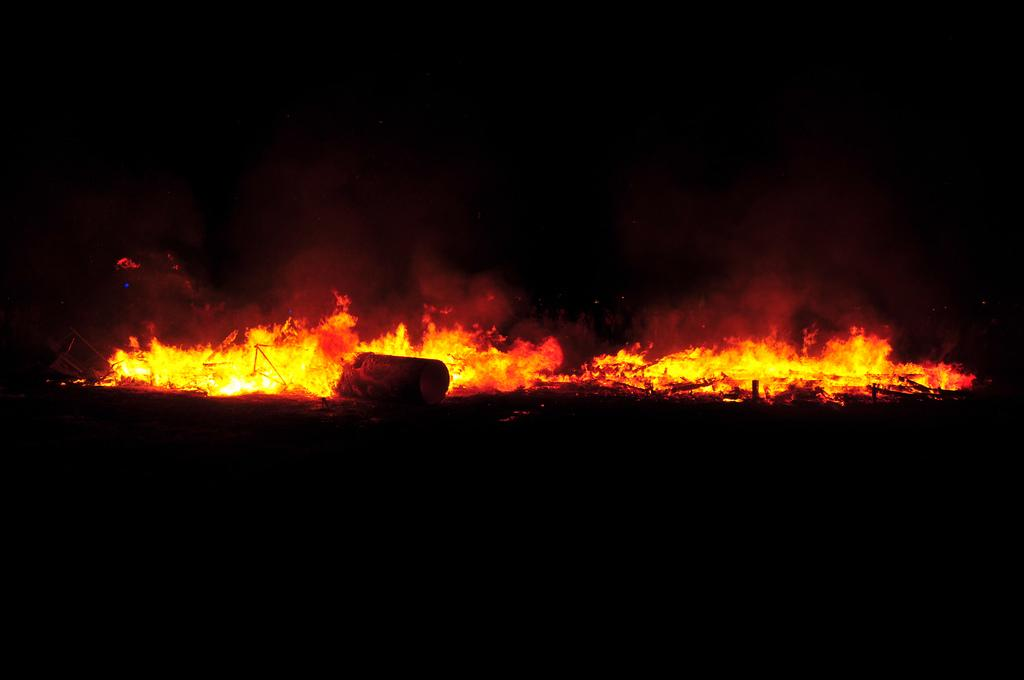fire: (658, 335, 935, 390), (112, 338, 328, 402), (452, 330, 573, 388), (422, 408, 452, 415)
